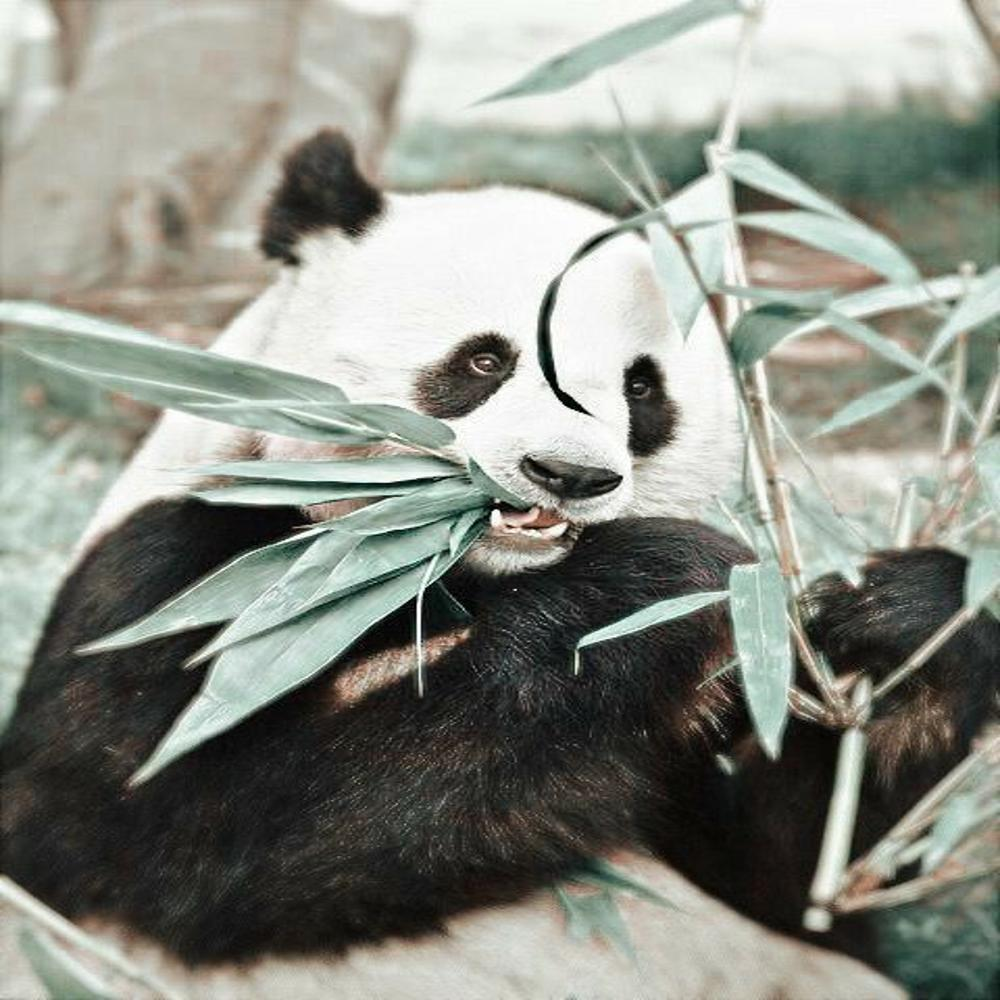panda: (2, 136, 991, 989)
